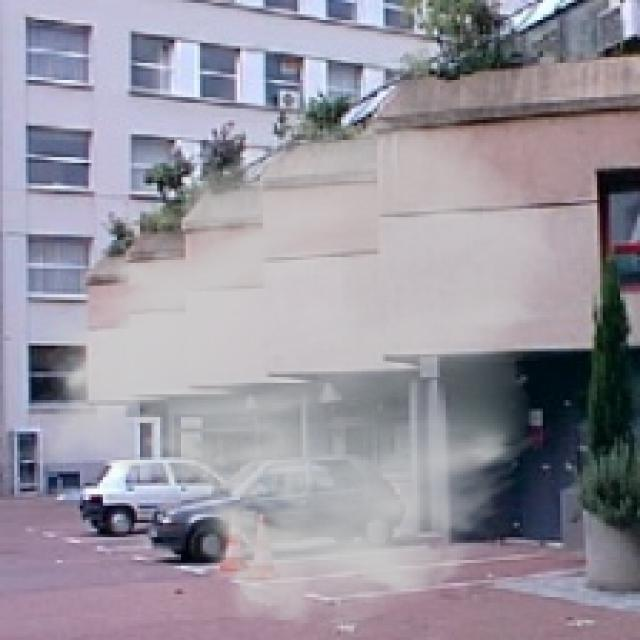Smoke: (26, 109, 563, 632)
